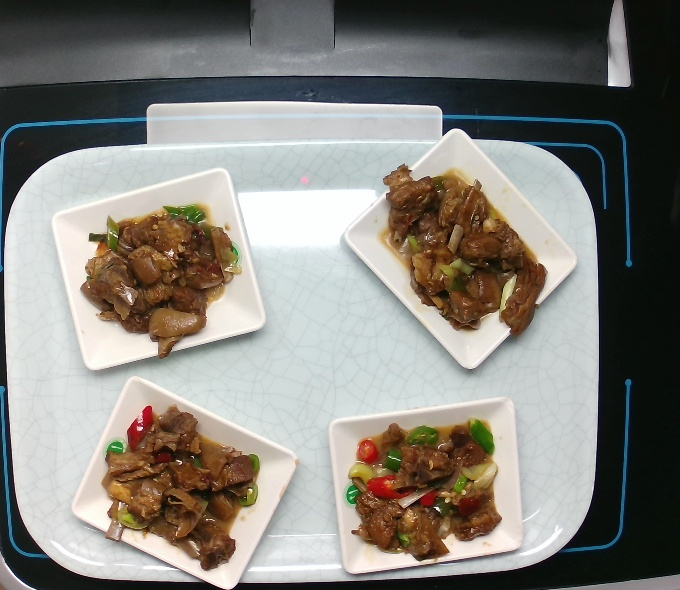wcq-YangRou: (370, 165, 554, 343), (334, 398, 514, 567), (90, 402, 270, 571), (72, 198, 252, 367)
